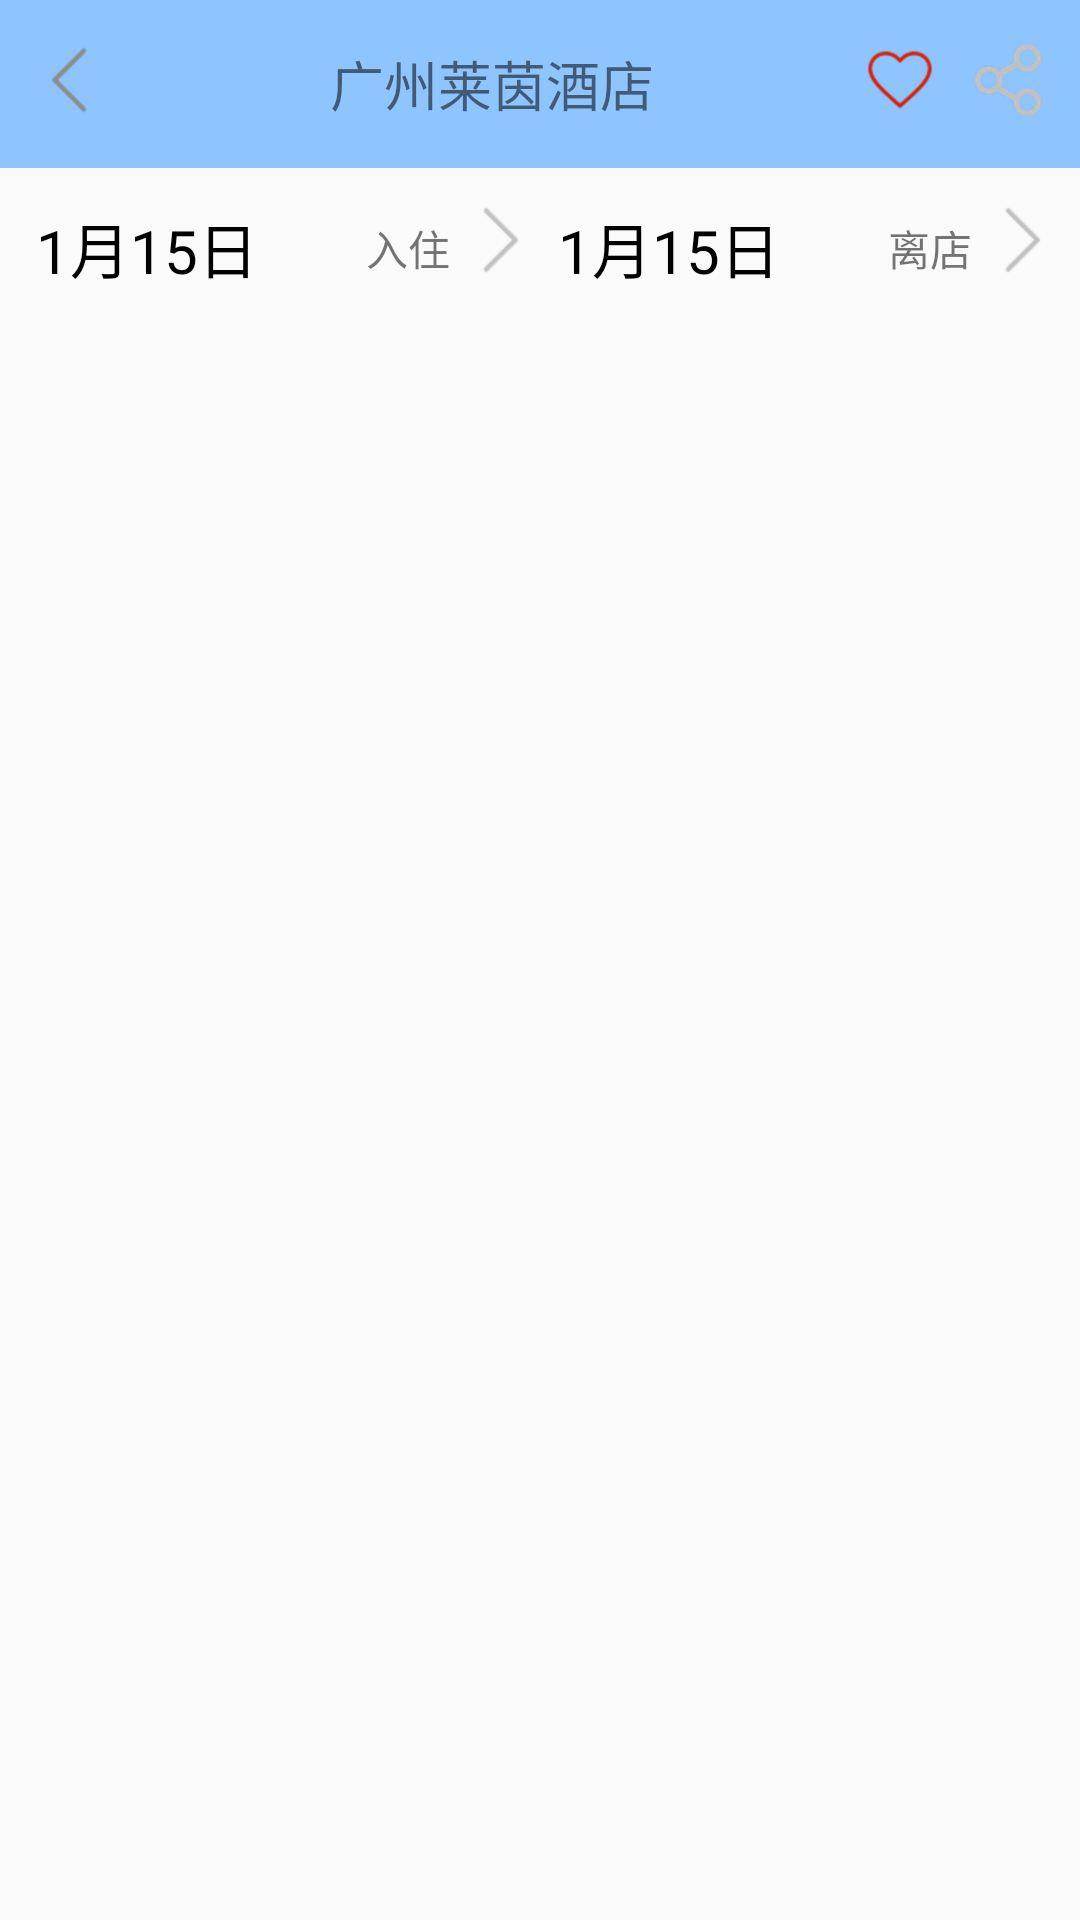

Icons on this 1080px×1920px Android screen, each with the point to tap as (x,y):
arrow back: (69,80)
arrow right: (501,240), (1023,240)
share: (1008,80)
